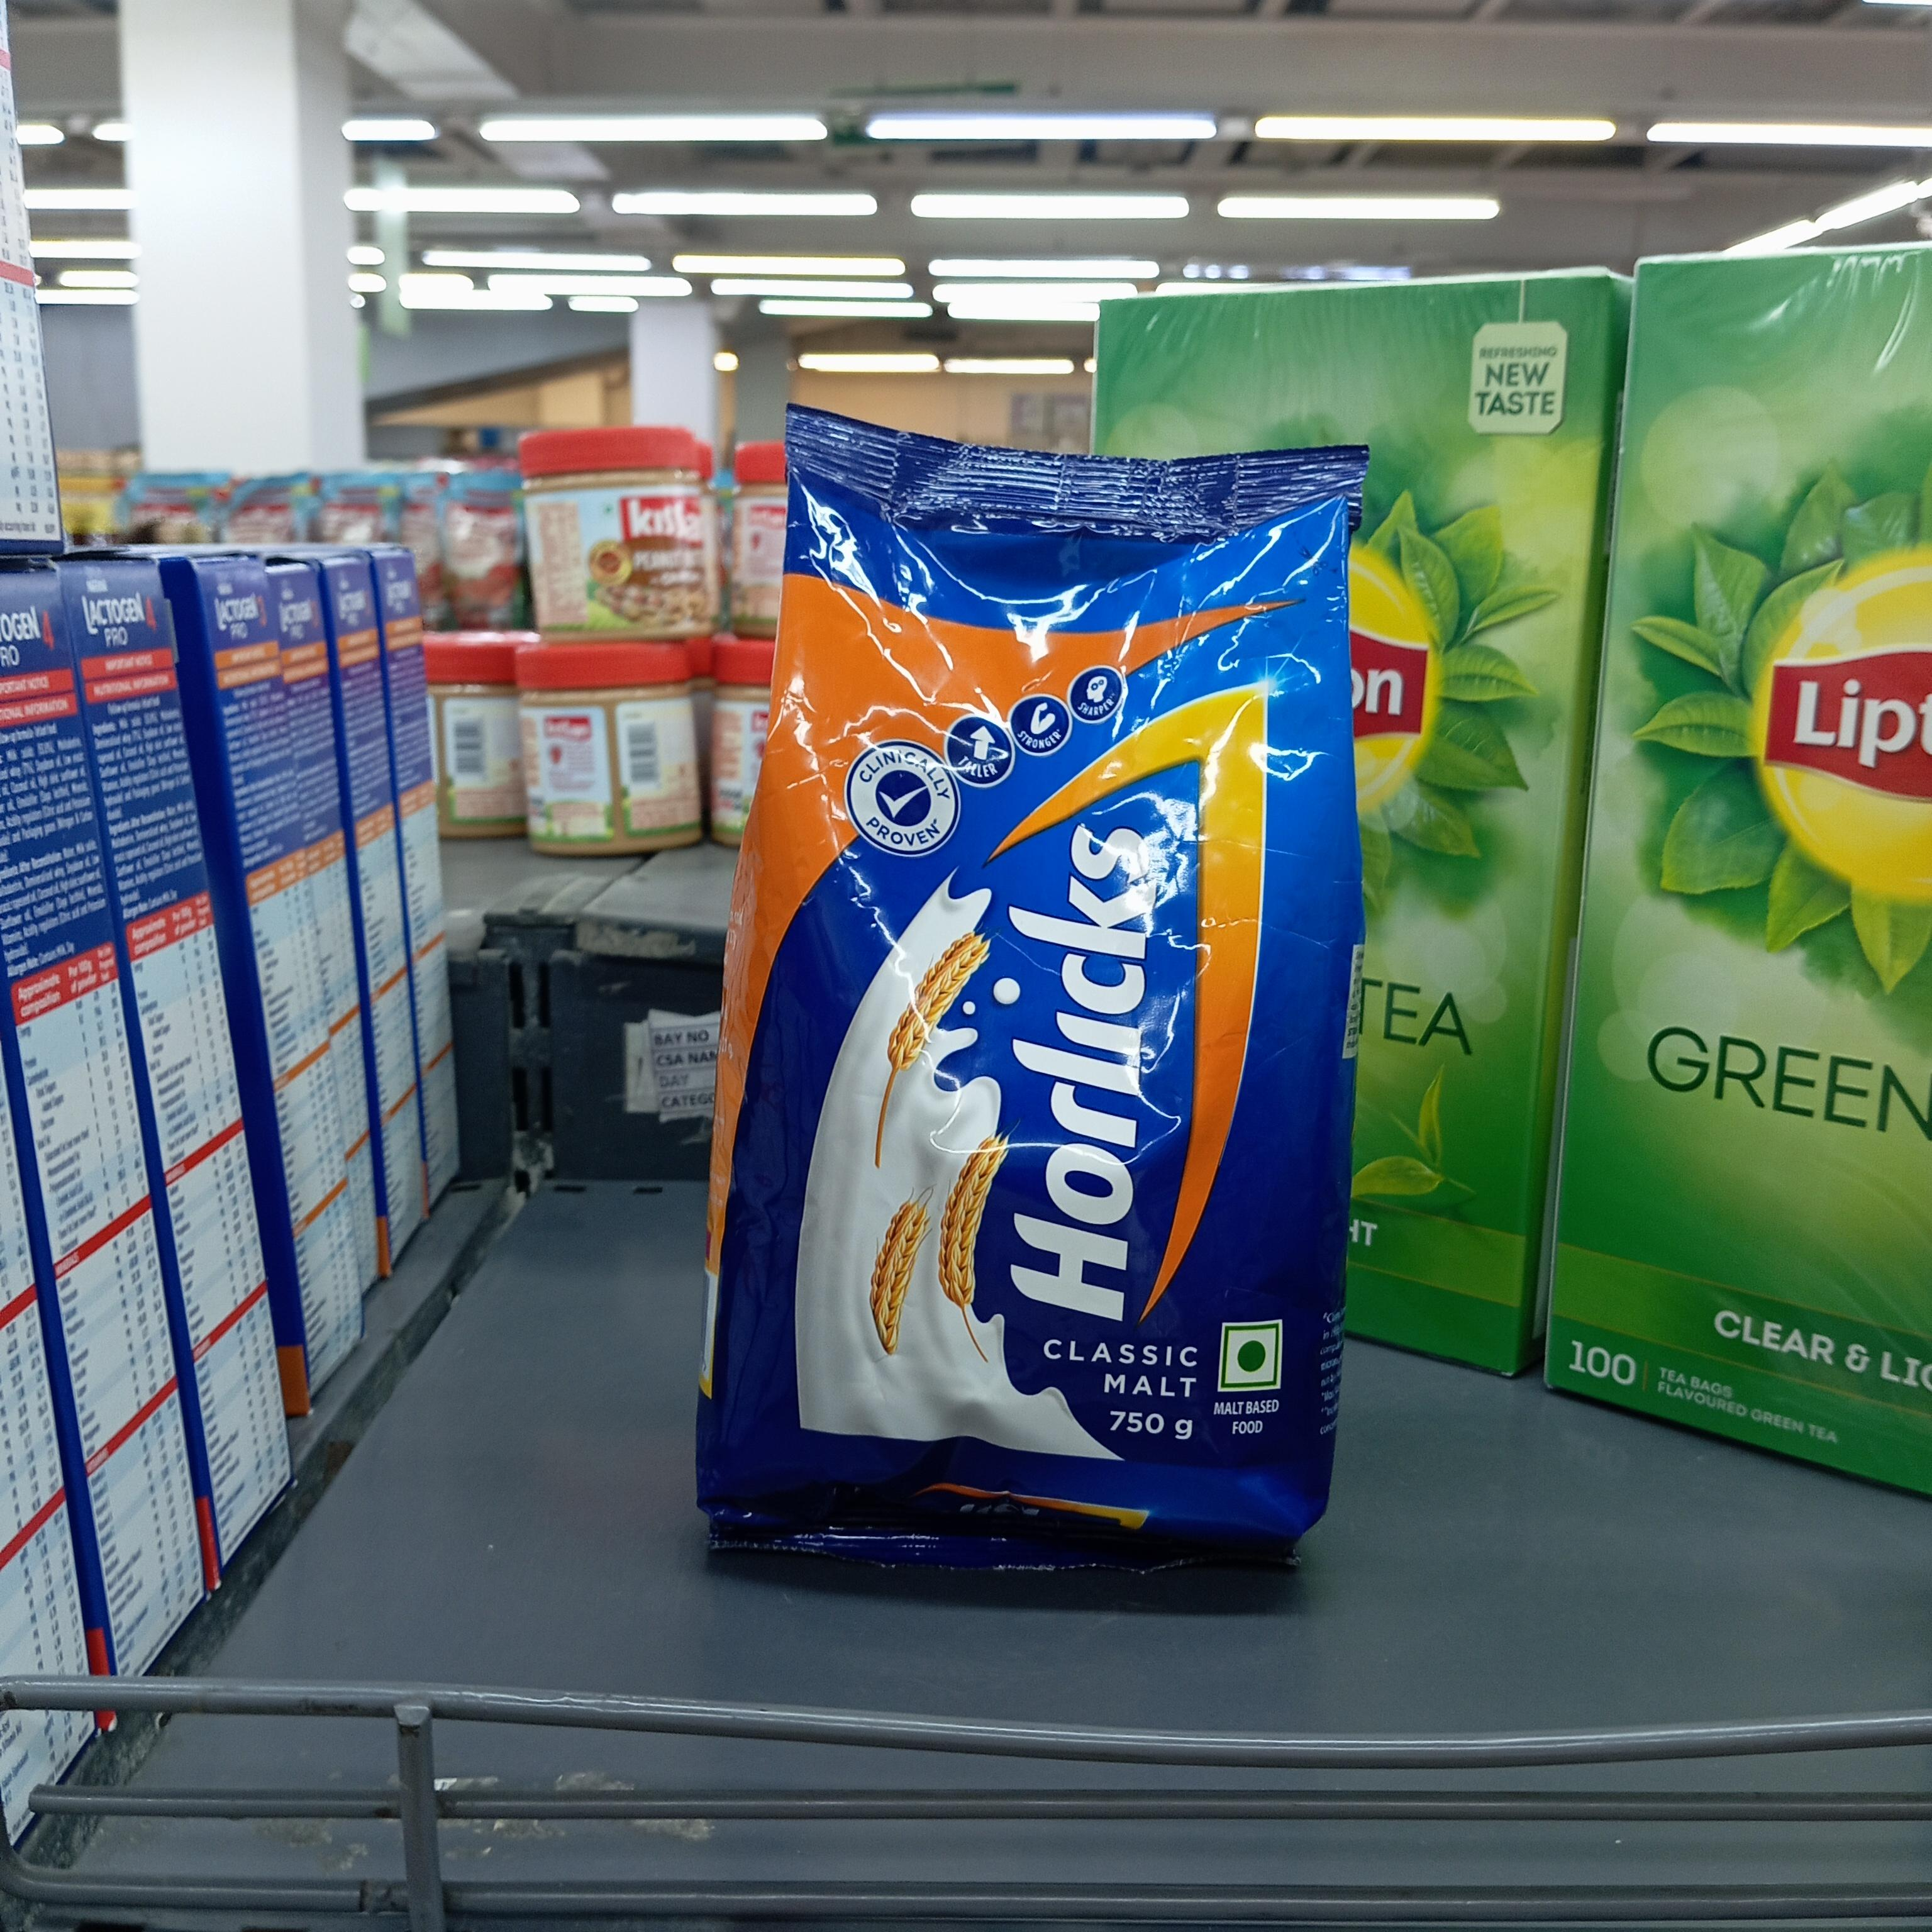HORLICK_CLASSIC_MALT_750_G_POUCH: (740, 421, 1316, 1548)
